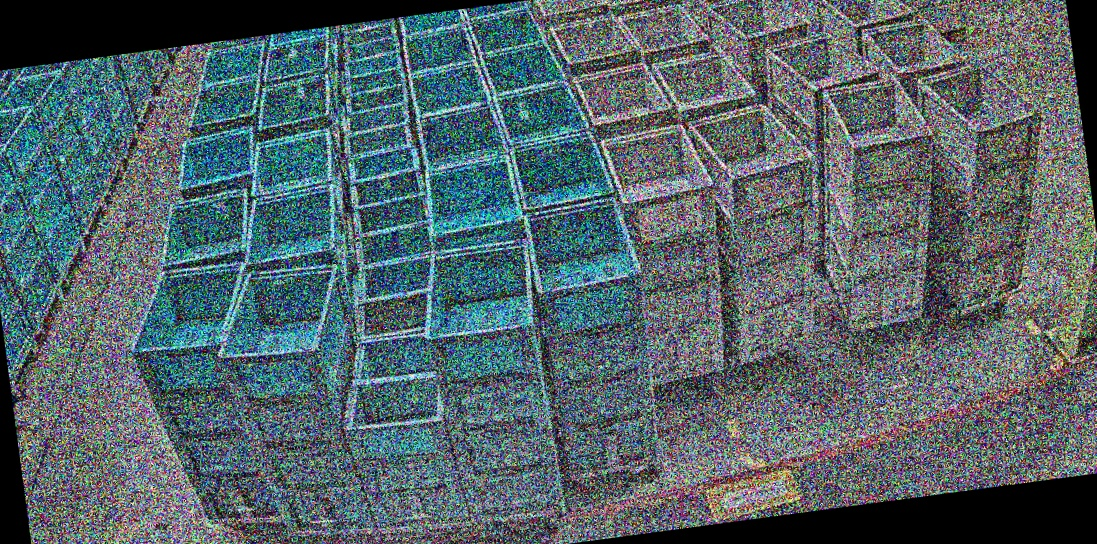4G: (901, 52, 1068, 313), (684, 97, 841, 365), (800, 74, 958, 331), (597, 120, 739, 385)
B4: (207, 257, 384, 544), (412, 236, 568, 527), (119, 260, 281, 535), (520, 196, 668, 479)
B8: (331, 328, 473, 537)
